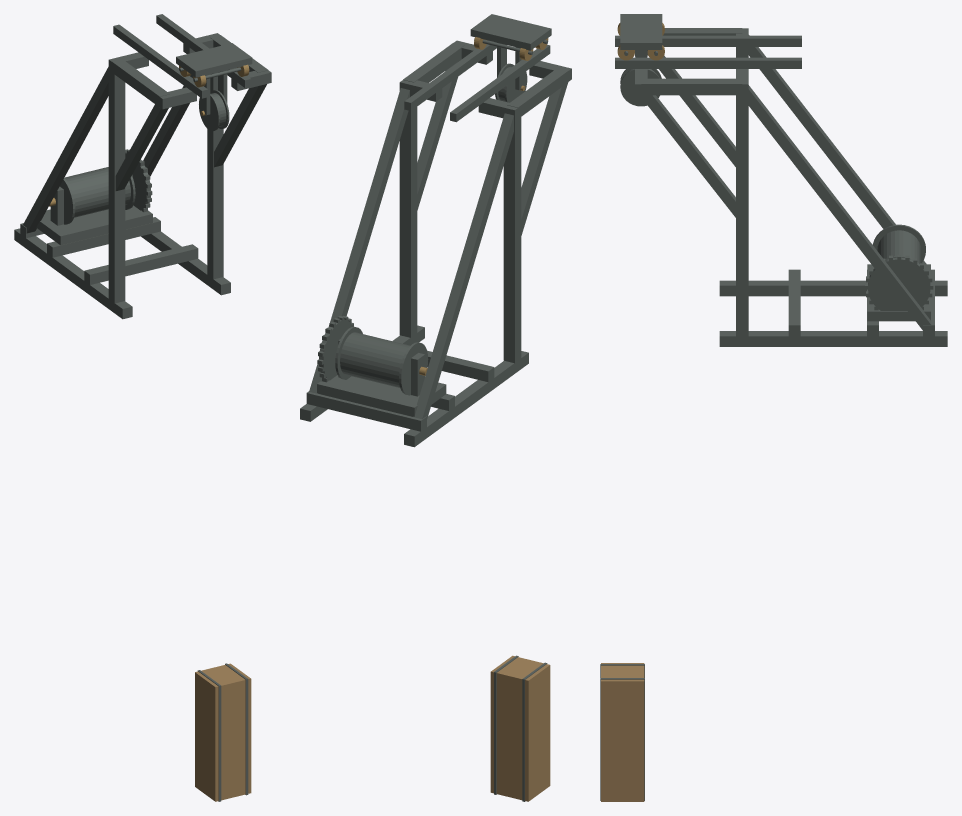
The model's file is relay-winch.glb.
The picture shows the model from 3 angles, left to right: view 1: azimuth 30°, elevation 25°; view 2: azimuth 150°, elevation 25°; view 3: azimuth 270°, elevation 25°; orthographic projection. The views are drawn at different scales.
Parts seen in each view (by area): view 1: crate-body, mast--0.002, back-stay--0.002, mast-0.002, winch-bed.002, skid--0.002, drum-core.002, trolley-crosshead.002, base-cross--4.002, head-brace--0.002, head-brace-0.002, trolley-rail--0.002 (+7 smaller); view 2: crate-body, back-stay--0.002, mast--0.002, mast-0.002, back-stay-0.002, drum-core.002, winch-bed.002, skid--0.002, head-brace--0.002, trolley-crosshead.002, base-cross--5.003, head-brace-0.002 (+10 smaller); view 3: crate-body, back-stay-0.002, skid-0.002, mast-0.002, back-stay--0.002, skid--0.002, trolley-rail-0.002, drive-wheel.002, head-brace-0.002, head-arm-0.002, trolley-rail--0.002, trolley-crosshead.002 (+6 smaller).
Part boxes in pixels (x1,y1,x2,y2): crate-body: (195, 663, 251, 801); mast--0.002: (108, 65, 125, 303); back-stay--0.002: (23, 67, 108, 233); mast-0.002: (207, 72, 223, 279); winch-bed.002: (36, 205, 152, 245); skid--0.002: (14, 228, 132, 319); drum-core.002: (64, 167, 130, 217); trolley-crosshead.002: (176, 43, 252, 77); base-cross--4.002: (84, 244, 198, 284); head-brace--0.002: (115, 104, 168, 190); head-brace-0.002: (214, 84, 266, 167); trolley-rail--0.002: (113, 24, 207, 98); crate-body: (490, 655, 550, 801); back-stay--0.002: (413, 113, 513, 419); mast--0.002: (503, 112, 521, 363); mast-0.002: (399, 88, 417, 337); back-stay-0.002: (309, 88, 409, 393); drum-core.002: (340, 332, 410, 387); winch-bed.002: (317, 375, 446, 416); skid--0.002: (404, 351, 528, 447); head-brace--0.002: (521, 83, 567, 235); trolley-crosshead.002: (470, 14, 551, 50); base-cross--5.003: (306, 391, 426, 431); head-brace-0.002: (417, 59, 461, 210); crate-body: (601, 663, 644, 801); back-stay-0.002: (748, 85, 931, 330); skid-0.002: (719, 331, 947, 346); mast-0.002: (736, 89, 748, 336); back-stay--0.002: (748, 35, 931, 273); skid--0.002: (719, 280, 947, 296); trolley-rail-0.002: (615, 57, 801, 68); drive-wheel.002: (868, 257, 930, 310); head-brace-0.002: (639, 95, 735, 217); head-arm-0.002: (641, 78, 742, 95); trolley-rail--0.002: (615, 35, 801, 46); trolley-crosshead.002: (620, 14, 662, 49).
Bounding box in the file's own units: 1.77 × 11.29 × 4.65.
